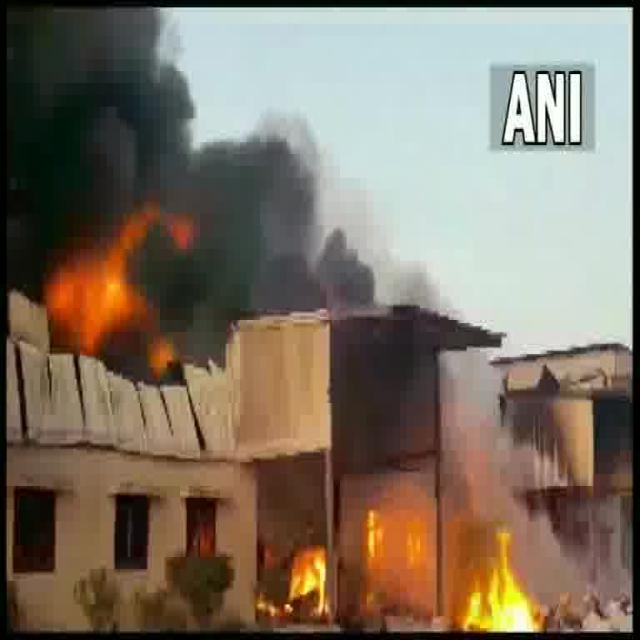Fire: (48, 248, 140, 343), (472, 568, 526, 636)
Smoke: (13, 14, 170, 198), (198, 172, 308, 302)
